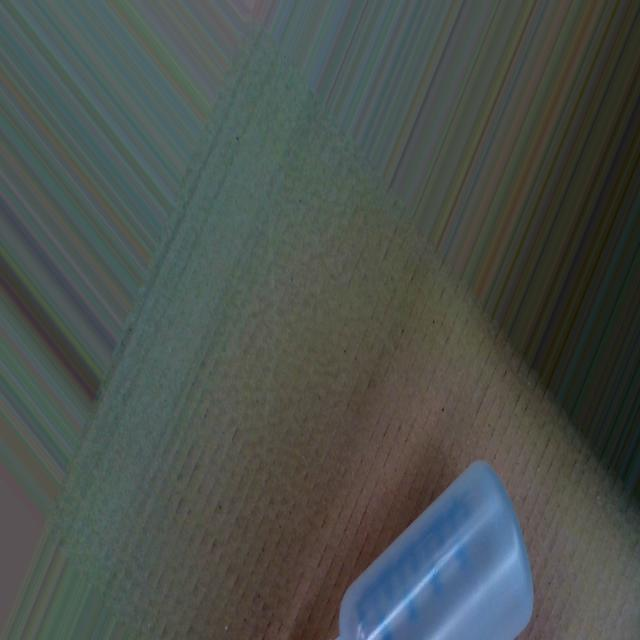bottle: (336, 453, 536, 640)
